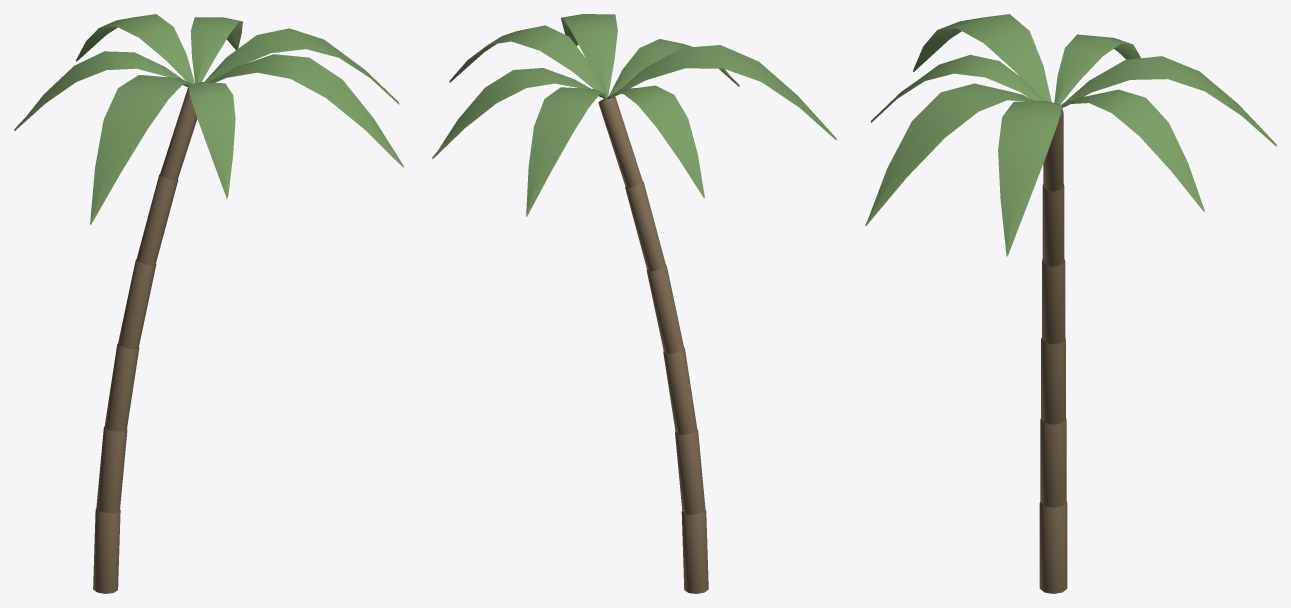
Rendered from palm_tree_variant_01_lod1.glb.
3 views of the same model, side by side, from view 1: azimuth 30°, elevation 25°; view 2: azimuth 150°, elevation 25°; view 3: azimuth 270°, elevation 25° (orthographic). The views are drawn at different scales.
Visible parts, largest first — view 1: static_leaf_oak, static_wood; view 2: static_leaf_oak, static_wood; view 3: static_leaf_oak, static_wood.
Boxes of the visible parts, <box> form: static_leaf_oak: <box>14,14,403,224</box>; static_wood: <box>93,88,197,593</box>; static_leaf_oak: <box>432,14,836,216</box>; static_wood: <box>598,96,708,593</box>; static_leaf_oak: <box>865,14,1276,256</box>; static_wood: <box>1039,108,1067,593</box>.
Bounding box in the file's own units: 5.76 × 8.13 × 5.29.
